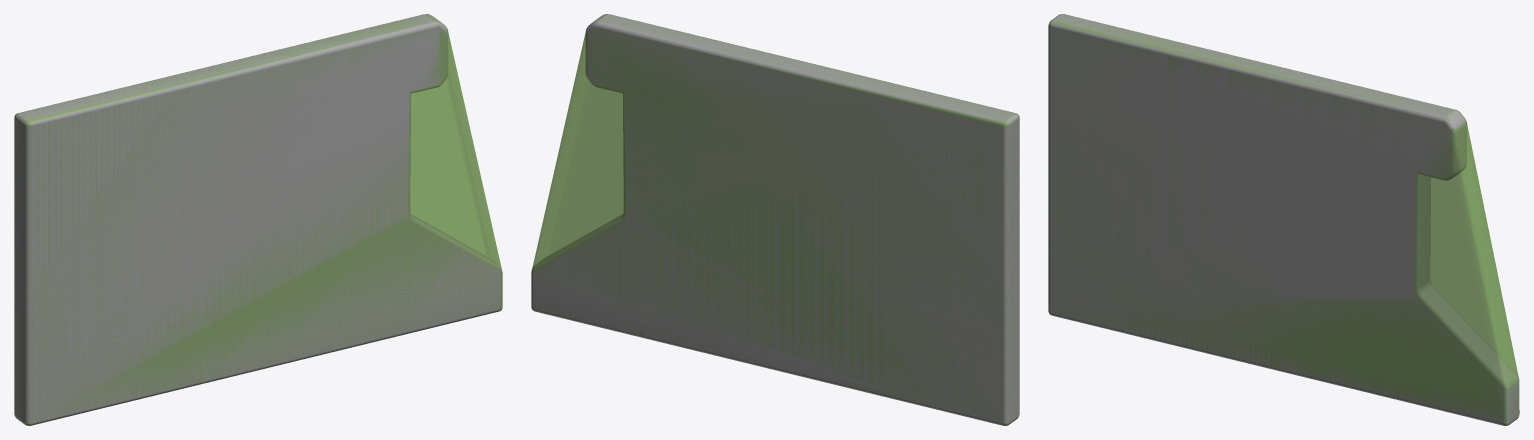
The model's file is M_md_StallRoof2_end_01.fbx.
3 renders of one model, left to right at view 1: azimuth 30°, elevation 25°; view 2: azimuth 150°, elevation 25°; view 3: azimuth 330°, elevation 25°, orthographic. The views are drawn at different scales.
Visible parts, largest first — view 1: M_md_StallRoof2_end_01_LOD0, M_md_StallRoof2_end_01_col_01; view 2: M_md_StallRoof2_end_01_LOD0, M_md_StallRoof2_end_01_col_01; view 3: M_md_StallRoof2_end_01_LOD0, M_md_StallRoof2_end_01_col_01.
Part boxes in pixels (x1,y1,x2,y2): M_md_StallRoof2_end_01_LOD0: (14,14,502,425); M_md_StallRoof2_end_01_col_01: (14,14,502,425); M_md_StallRoof2_end_01_LOD0: (531,14,1019,425); M_md_StallRoof2_end_01_col_01: (531,14,1019,425); M_md_StallRoof2_end_01_LOD0: (1048,14,1519,425); M_md_StallRoof2_end_01_col_01: (1048,15,1519,425).
Size of what is drawn, in the model's own units: 135 by 82.22 by 7.07.
